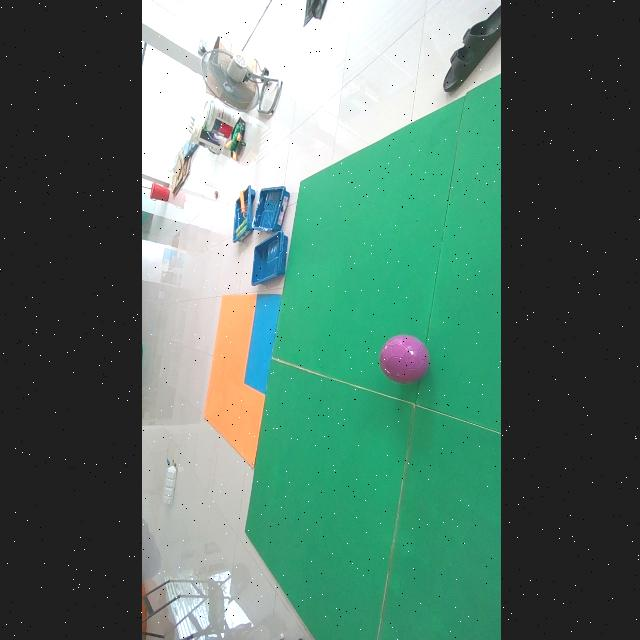P: (378, 335, 428, 384)
